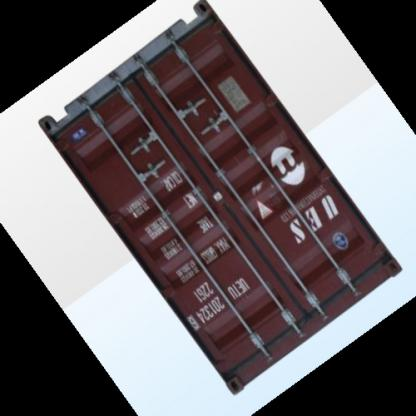Damage: (210, 347, 270, 382), (264, 180, 297, 221)
